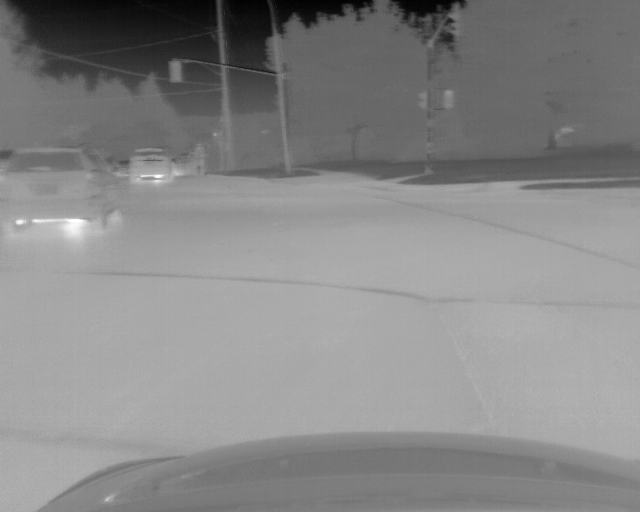car: (2, 145, 128, 232), (129, 147, 173, 185)
